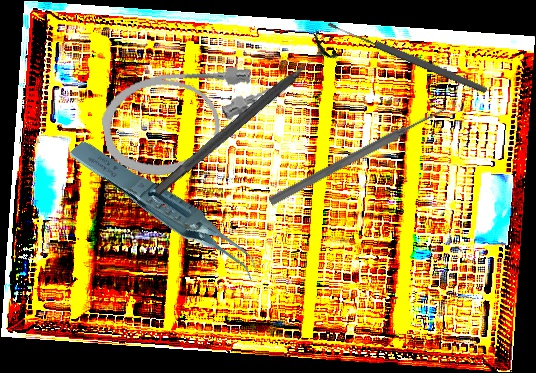Cannula: (95, 53, 292, 185)
Fixation Ring: (144, 29, 341, 206)
Pusher: (267, 103, 449, 208)
Surgical Spoon: (325, 18, 490, 96)
Tissue Forceps: (68, 109, 264, 316)
